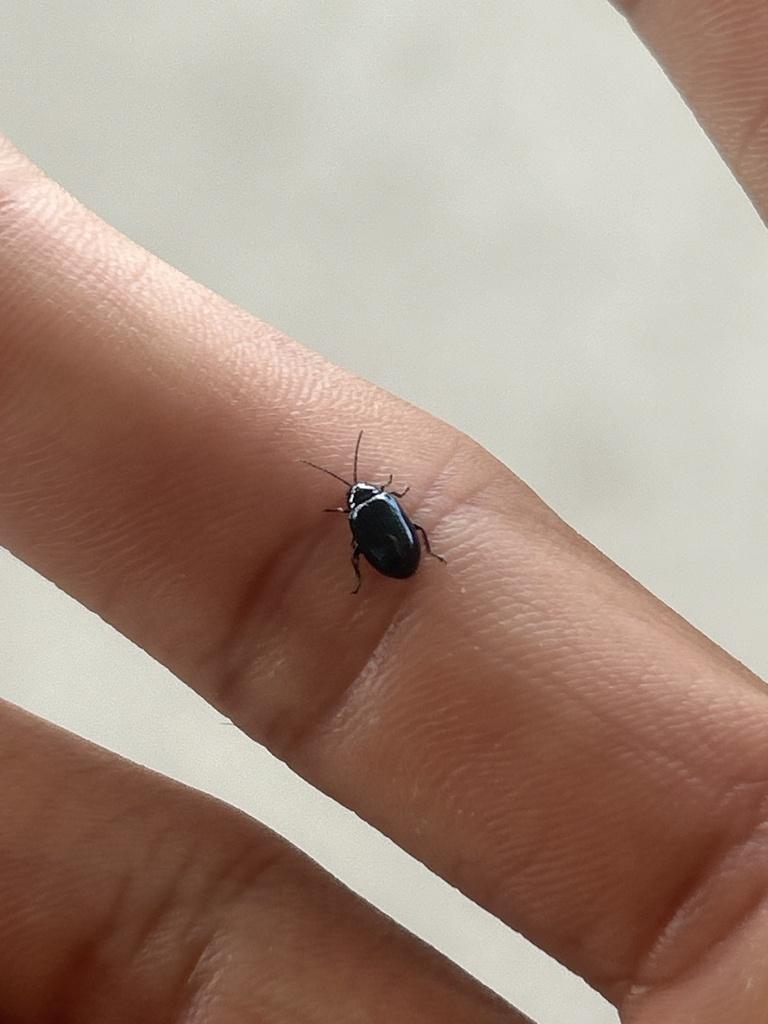flea_beetle: (260, 400, 501, 646)
